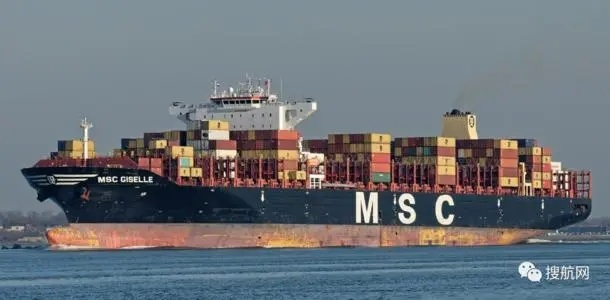Cargoship: (24, 73, 602, 252)
